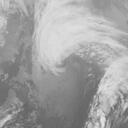cyclone: (41, 27, 113, 87)
